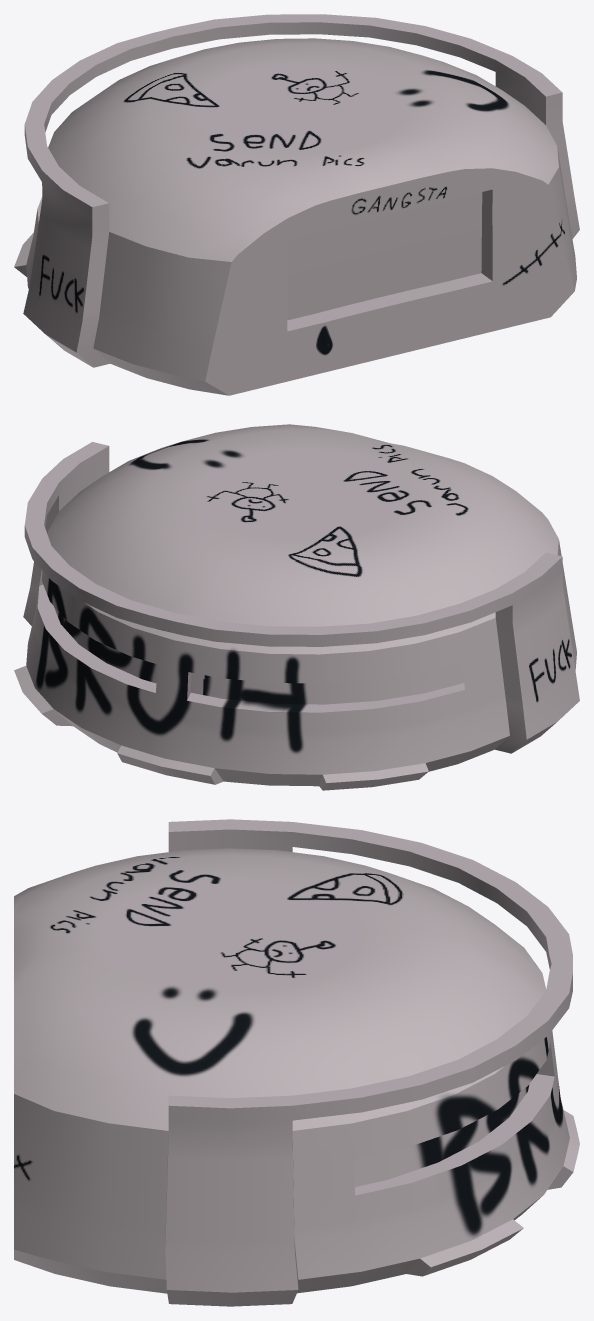
Rendered from HeadV6.fbx.
3 views of the same model, one above another, from view 1: azimuth 30°, elevation 25°; view 2: azimuth 150°, elevation 25°; view 3: azimuth 270°, elevation 25° (orthographic). The views are drawn at different scales.
Parts seen in each view (by area): view 1: Head; view 2: Head; view 3: Head.
Boxes of the visible parts, x1,y1,x2,y2 form: Head: (14,14,579,395); Head: (14,424,579,790); Head: (14,819,579,1306).
Bounding box in the file's own units: 126 × 43.07 × 97.32.
